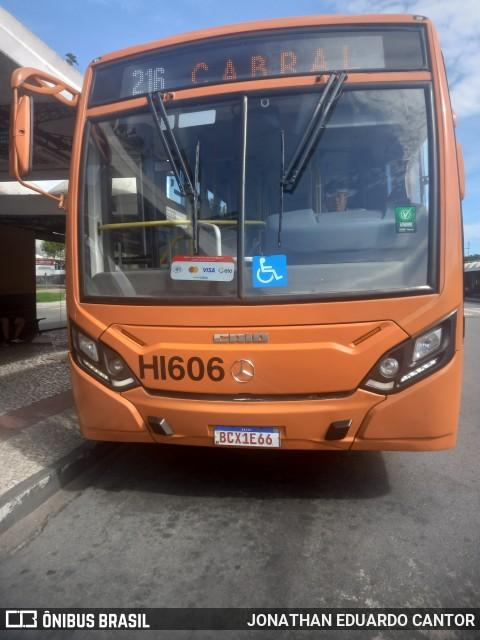CABRAL: (178, 41, 368, 90)
